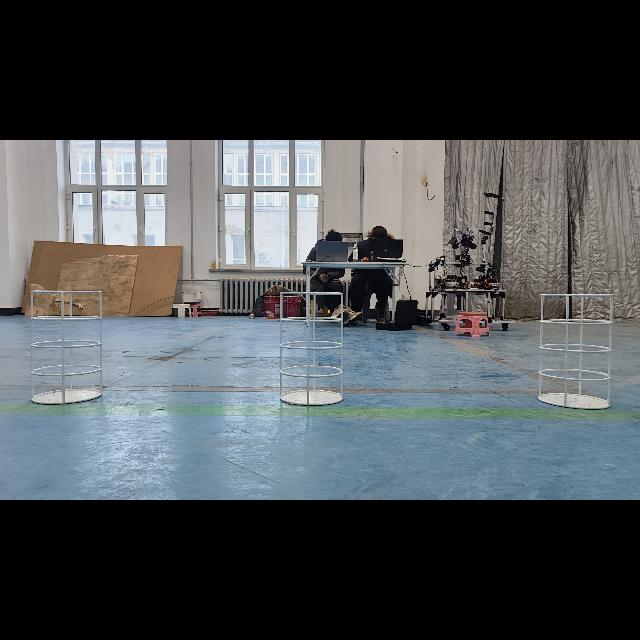S: (534, 289, 616, 413), (26, 284, 106, 408), (276, 287, 350, 408)
